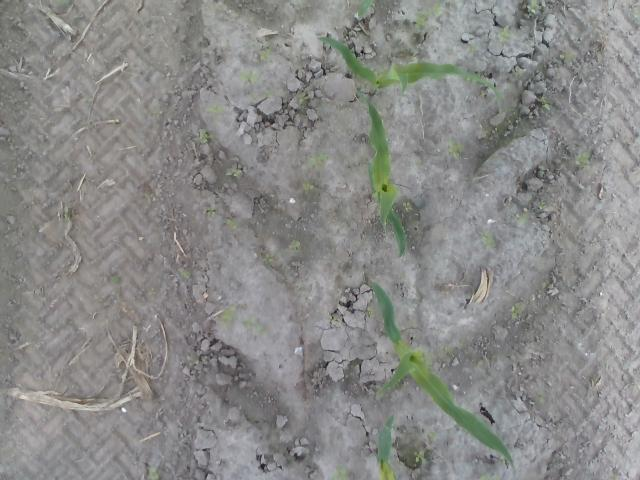Maize: (370, 280, 517, 476), (316, 32, 502, 110), (355, 90, 407, 258), (376, 414, 398, 480)
Weeds: (416, 4, 446, 28), (238, 317, 266, 337), (476, 228, 497, 249), (191, 129, 215, 146), (448, 134, 463, 159), (218, 306, 235, 328), (308, 152, 328, 170), (204, 103, 228, 117), (410, 450, 430, 466), (422, 428, 438, 448), (240, 71, 261, 86), (574, 151, 590, 169), (516, 211, 529, 232), (224, 168, 243, 180), (500, 26, 514, 42), (526, 1, 540, 17), (536, 95, 550, 110), (256, 50, 271, 64), (262, 253, 276, 267), (146, 466, 160, 480), (202, 206, 218, 218), (225, 218, 238, 232), (288, 240, 302, 253), (511, 66, 526, 78), (511, 303, 522, 319), (150, 105, 164, 117), (64, 206, 76, 220), (329, 317, 342, 328), (402, 200, 412, 214), (560, 52, 575, 61), (177, 268, 190, 278), (300, 182, 314, 191), (467, 44, 482, 52), (366, 306, 375, 319), (110, 273, 119, 283), (537, 394, 546, 404)
